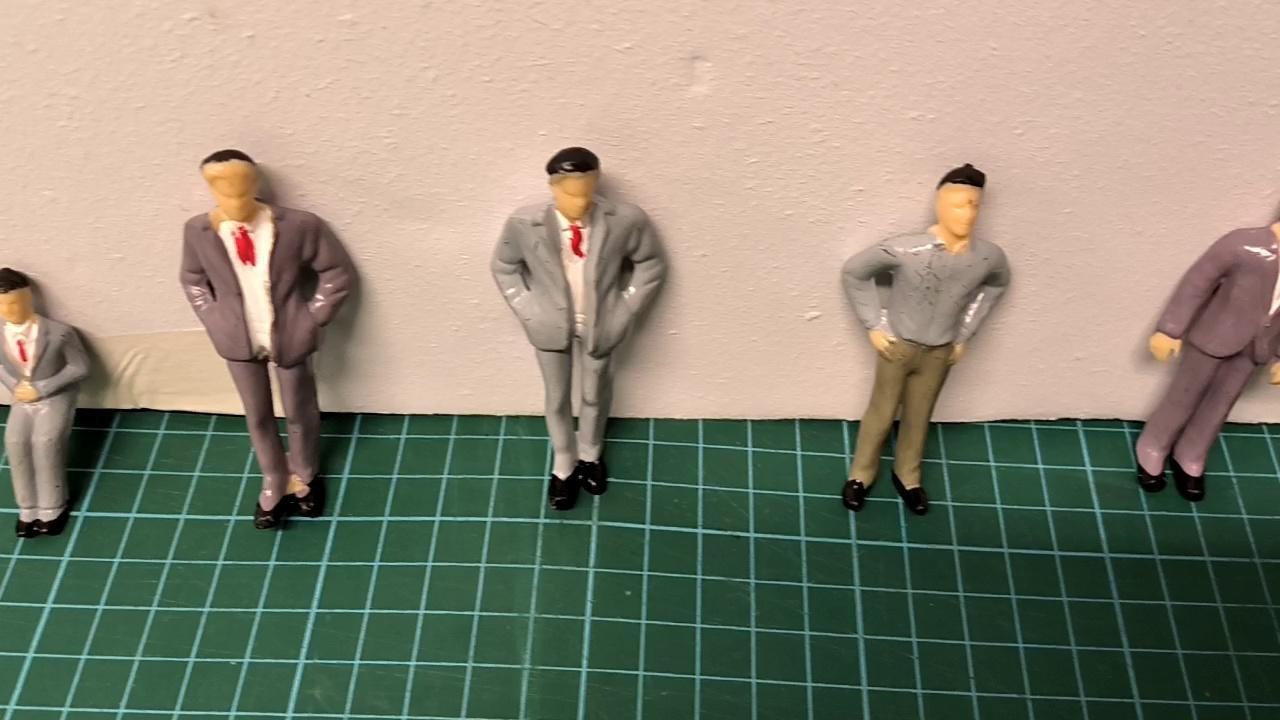human: (177, 146, 361, 534), (491, 144, 669, 510), (841, 158, 1014, 522), (1133, 212, 1280, 500), (0, 264, 99, 544)
